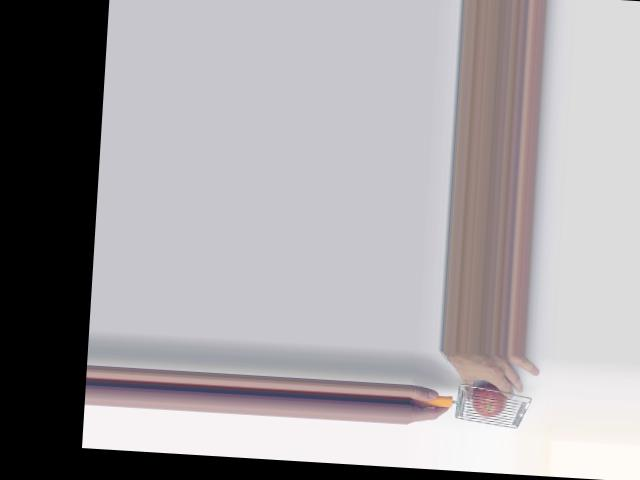tomato: (470, 383, 506, 417)
